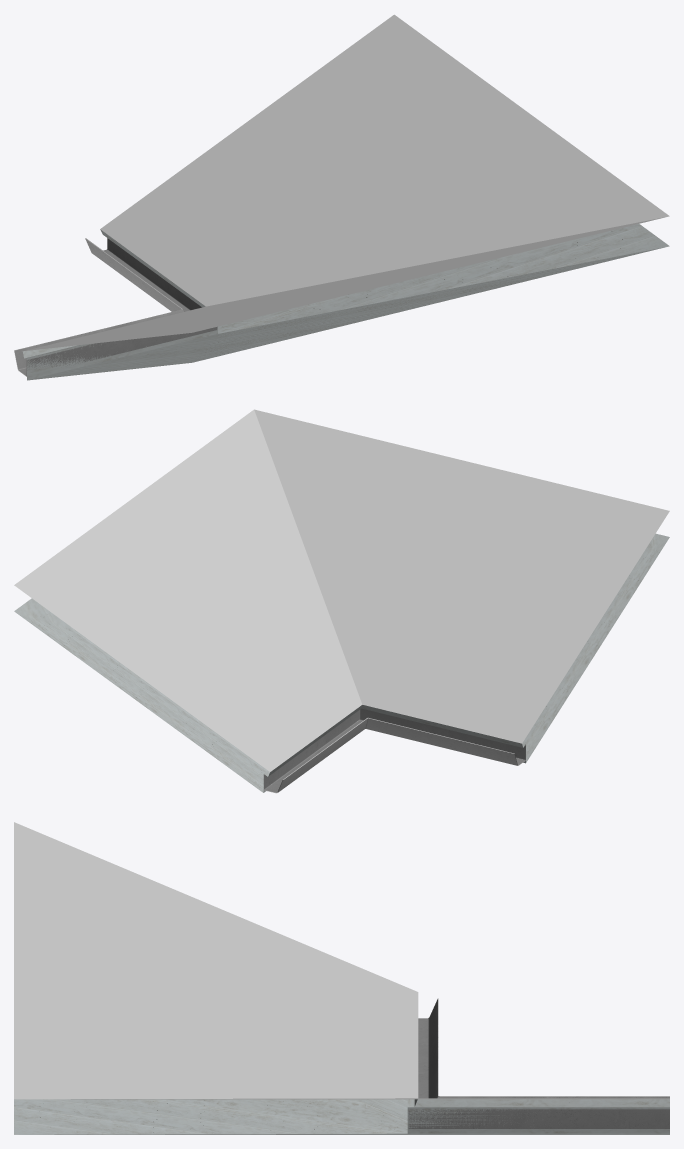
Rendered from SM_Roof_02_Bottom_Corner_Inner.fbx.
The picture shows the model from 3 angles, top to bottom: view 1: azimuth 30°, elevation 25°; view 2: azimuth 150°, elevation 25°; view 3: azimuth 270°, elevation 25°; orthographic projection. The views are drawn at different scales.
Visible parts, largest first — view 1: SM_Roof_02_Bottom_Corner_Inner_LOD0; view 2: SM_Roof_02_Bottom_Corner_Inner_LOD0; view 3: SM_Roof_02_Bottom_Corner_Inner_LOD0.
Part boxes in pixels (bbox=[...]): SM_Roof_02_Bottom_Corner_Inner_LOD0: bbox=[14, 14, 669, 380]; SM_Roof_02_Bottom_Corner_Inner_LOD0: bbox=[14, 409, 669, 793]; SM_Roof_02_Bottom_Corner_Inner_LOD0: bbox=[14, 822, 669, 1134].
Bounding box in the file's own units: 300 × 300 × 101.
